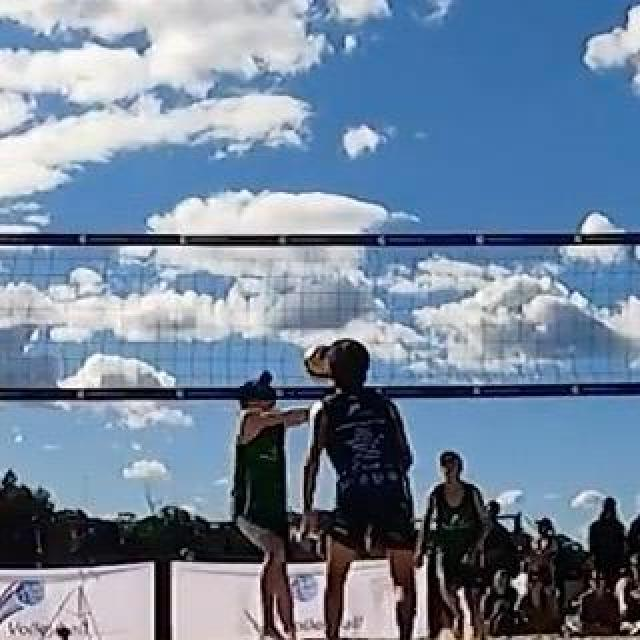volleyball: (304, 343, 340, 381)
